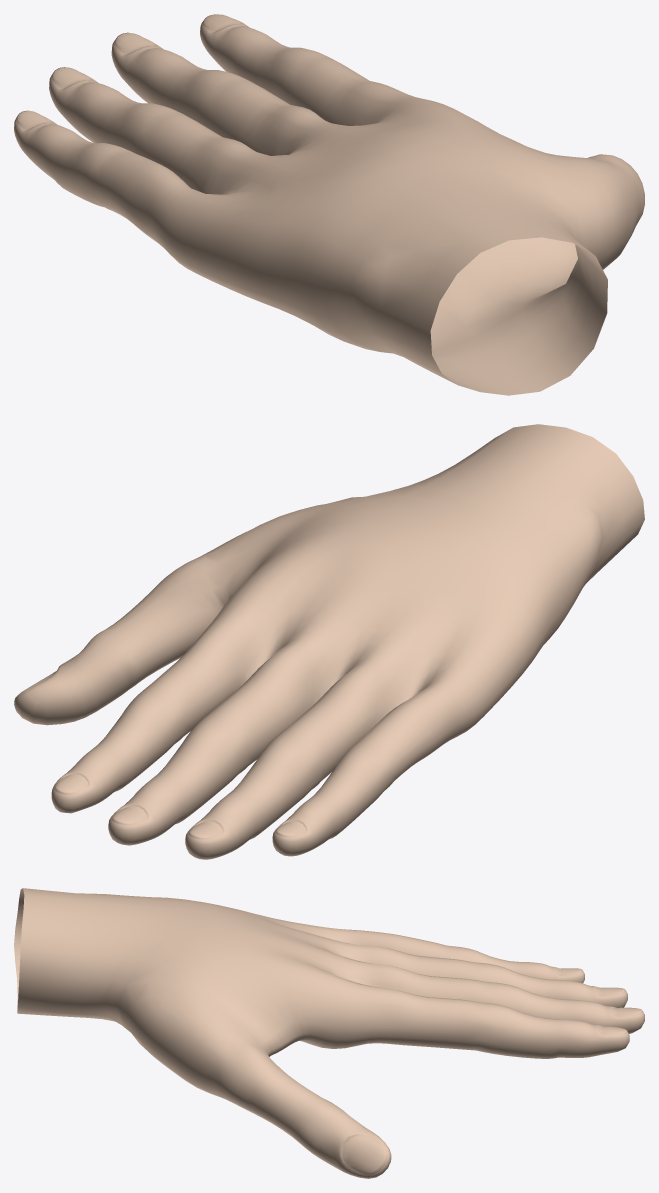
File: rigging_fingers_animation.fbx
3 renders of one model, top to bottom at view 1: azimuth 30°, elevation 25°; view 2: azimuth 150°, elevation 25°; view 3: azimuth 270°, elevation 25°, orthographic. The views are drawn at different scales.
Visible parts, largest first — view 1: geo-hand; view 2: geo-hand; view 3: geo-hand.
Part boxes in pixels (left/top/right/bottom): geo-hand: left=14, top=14, right=644, bottom=395; geo-hand: left=14, top=424, right=644, bottom=859; geo-hand: left=14, top=888, right=644, bottom=1178.
Bounding box in the file's own units: 0.5274 × 0.2467 × 0.8519.
